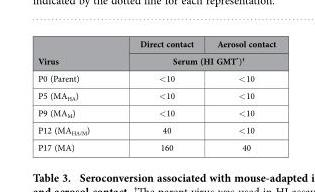table: (37, 37, 275, 153)
table column: (114, 37, 204, 153), (37, 37, 114, 153), (204, 37, 275, 153)
table column header: (37, 37, 275, 69)
table row: (37, 51, 275, 69), (37, 86, 275, 104), (37, 69, 275, 86), (37, 104, 275, 121), (37, 121, 275, 138), (37, 138, 275, 153), (37, 37, 275, 51)
table spanning cell: (114, 51, 275, 69), (37, 37, 114, 69)
